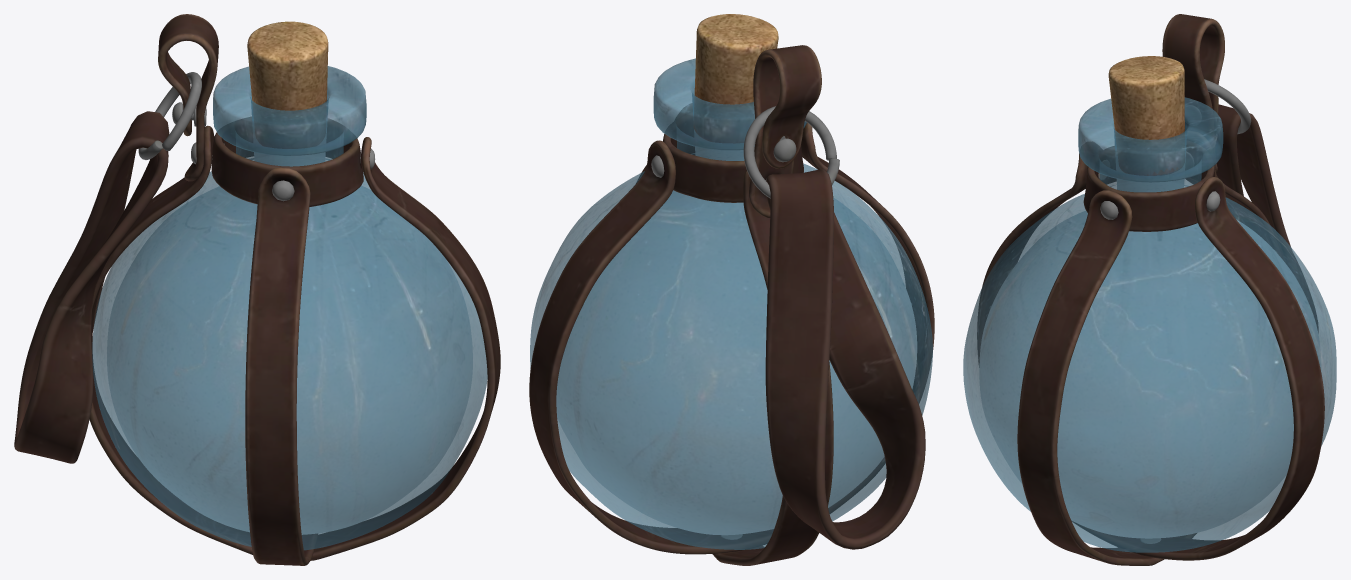
The model's file is small_bottle.glb.
The picture shows the model from 3 angles, left to right: view 1: azimuth 30°, elevation 25°; view 2: azimuth 150°, elevation 25°; view 3: azimuth 270°, elevation 25°; orthographic projection. The views are drawn at different scales.
Parts seen in each view (by area): view 1: Sklianka__0; view 2: Sklianka__0; view 3: Sklianka__0.
Part boxes in pixels (x1=…): Sklianka__0: x1=14, y1=14, x2=500, y2=565; Sklianka__0: x1=529, y1=14, x2=934, y2=565; Sklianka__0: x1=963, y1=14, x2=1336, y2=565.
Bounding box in the file's own units: 0.159 × 0.2048 × 0.1372.
1 material, 1 textured.
